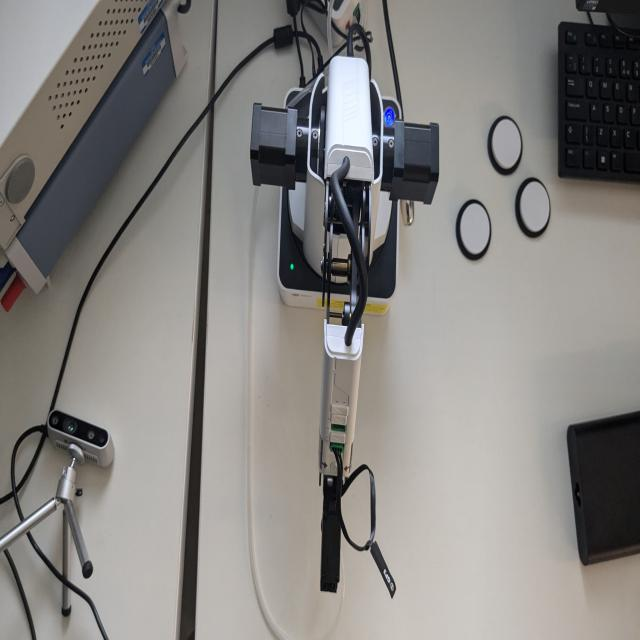Robot-end-effector-HF8z: (318, 476, 345, 612)
